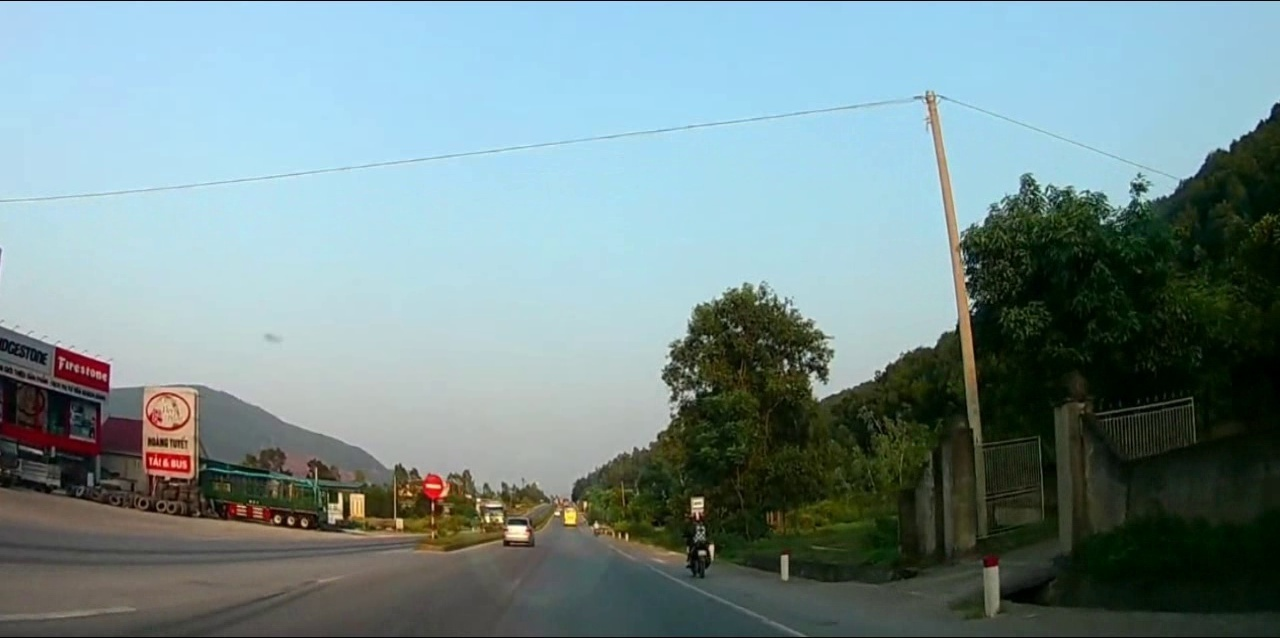Bien khac: (691, 496, 704, 516)
Cam di nguoc chieu: (422, 474, 443, 499)
